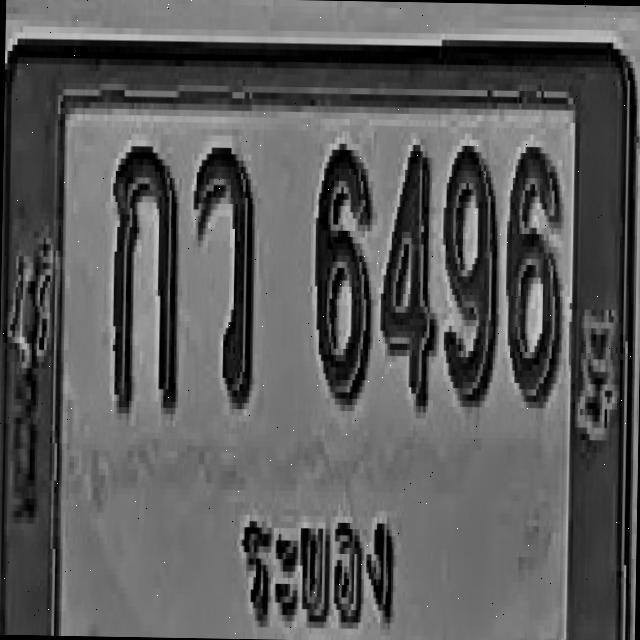10GorGai: (98, 121, 190, 439)
4: (374, 129, 445, 429)
46WorWaen: (192, 118, 262, 422)
6: (304, 132, 386, 442), (492, 110, 566, 438)
9: (436, 111, 496, 452)
Rayong: (211, 467, 438, 640)
